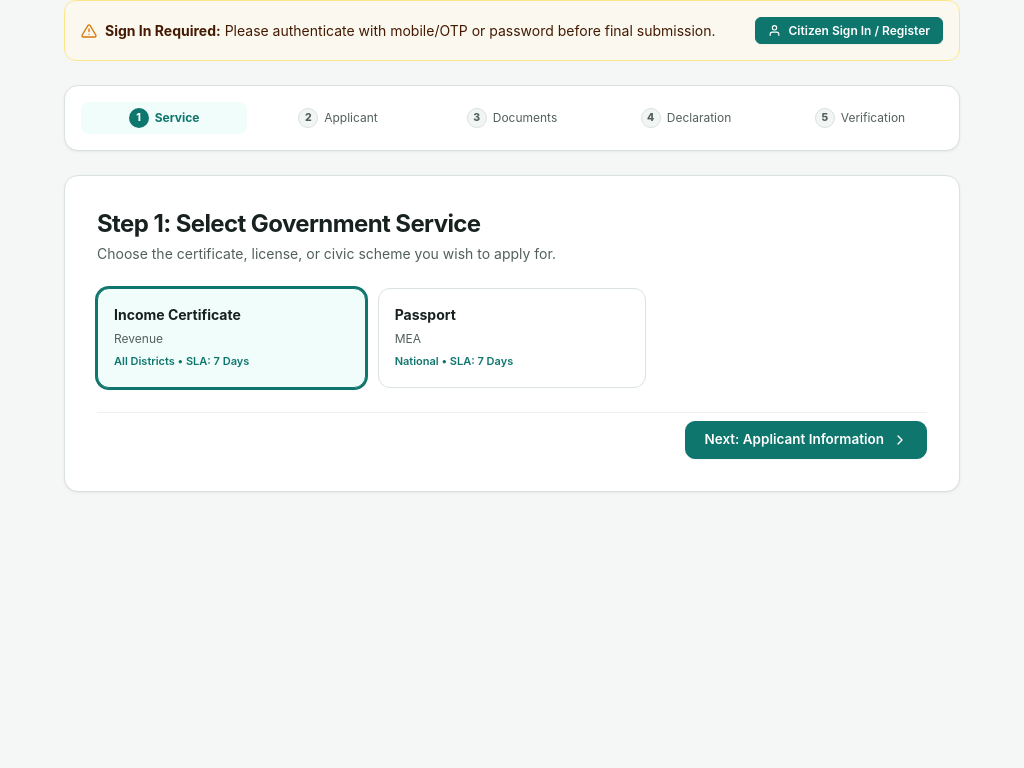
Test: ApplicationBuilder Authentication & Gating Tests › authenticates citizen via CitizenAuthModal with email and password without modal disappearing
// Click "Citizen Sign In / Register"
Click the button "Citizen Sign In / Register" at (849, 30), box [754,17,943,44]
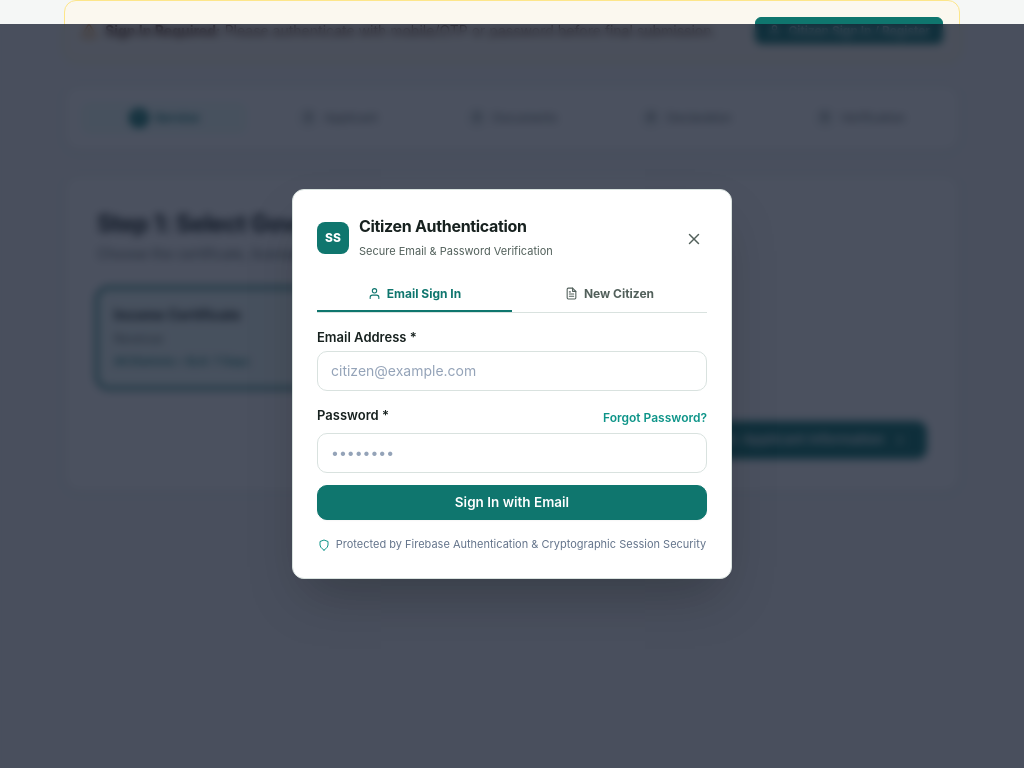
Expected: the dialog is shown
// Enter email and password
Type "bhavygarg7636@gmail.com" into the field with placeholder "citizen@example.com" at (512, 371), box [317,351,707,391]
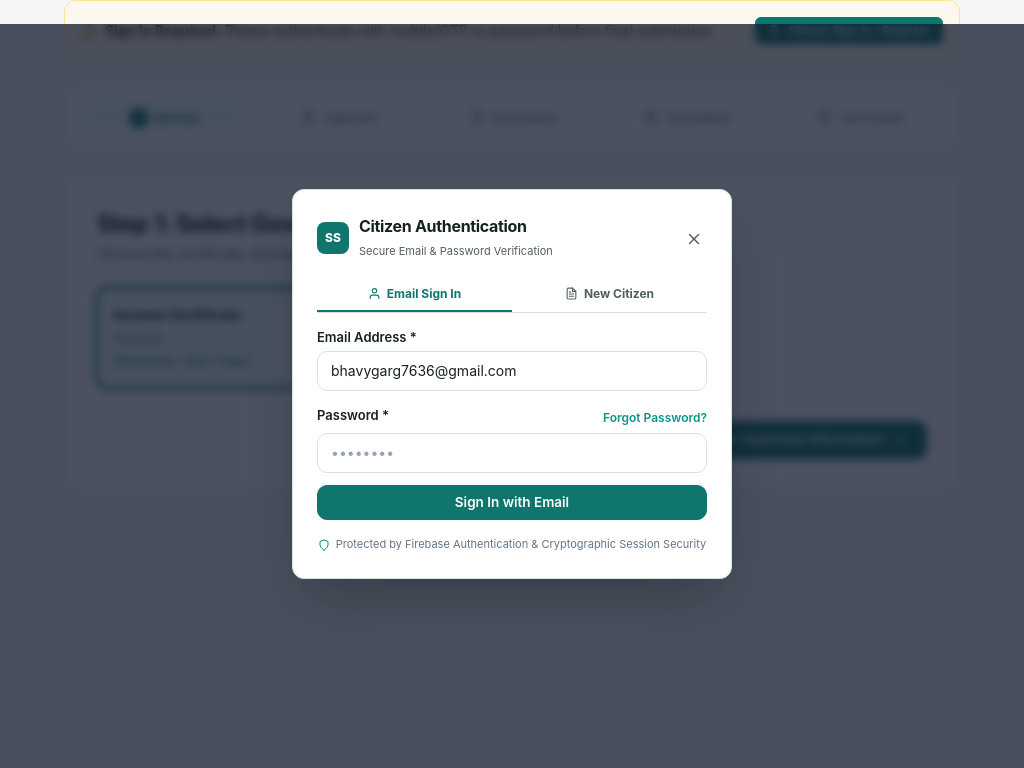
Type "mypassword123" into the password field with placeholder "••••••••" at (512, 453), box [317,433,707,473]
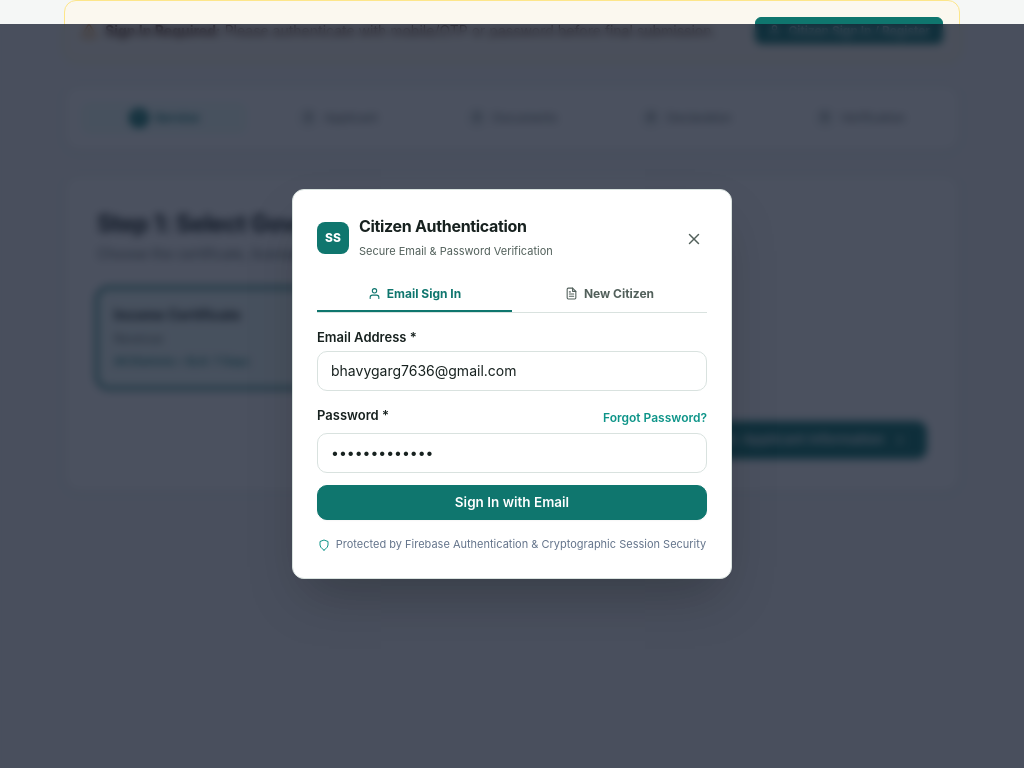
// Click "Sign In with Email"
Click the button "Sign In with Email" at (512, 503), box [317,485,707,520]
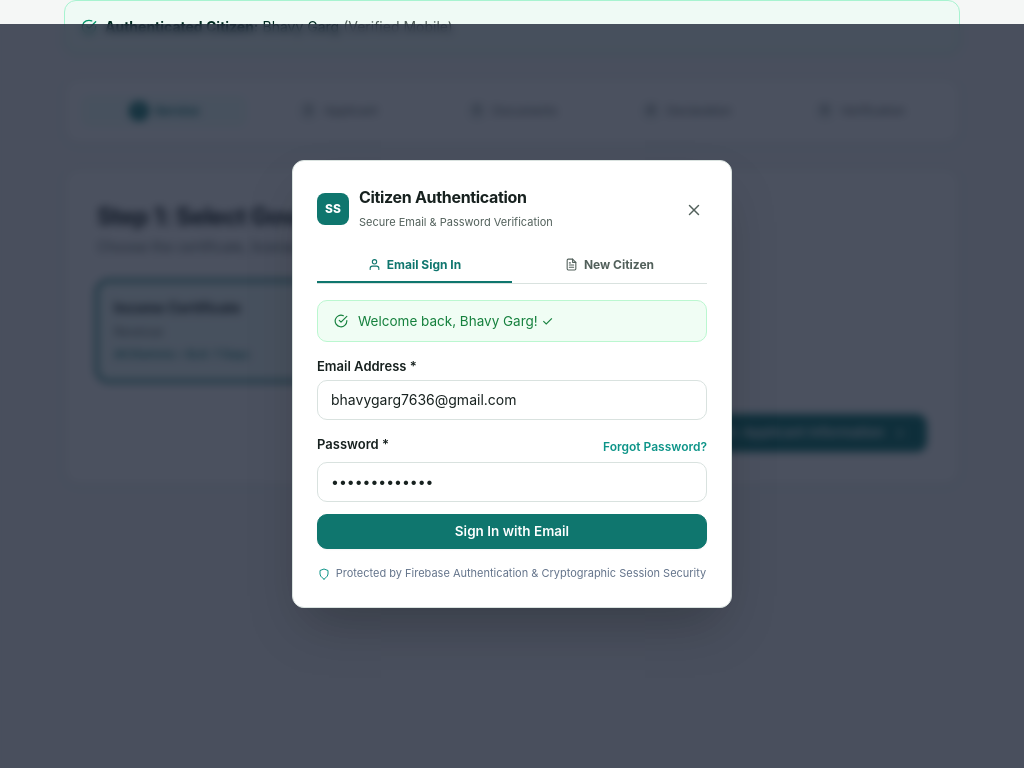
Expected: the text "Authenticated Citizen:" is shown, [105,18,258,35]
